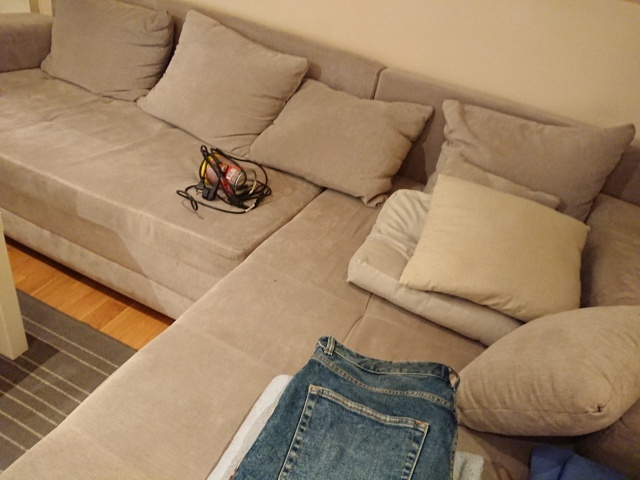Nescafe Classic 225g: (197, 150, 259, 202)
